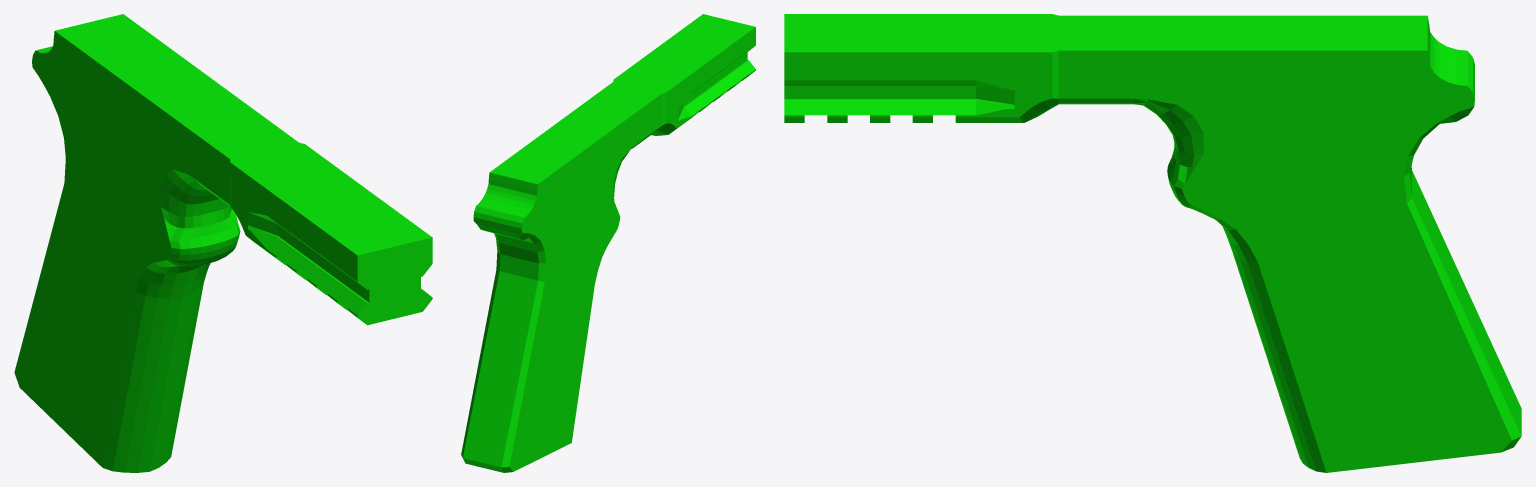
3 views of the same model, side by side, from view 1: azimuth 30°, elevation 25°; view 2: azimuth 150°, elevation 25°; view 3: azimuth 270°, elevation 25° (orthographic). The views are drawn at different scales.
Visible parts, largest first — view 1: Rail1; view 2: Rail1; view 3: Rail1.
Part boxes in pixels (x1,y1,x2,y2): Rail1: (14,14,432,472); Rail1: (461,14,755,472); Rail1: (784,14,1521,472).
Bounding box in the file's own units: 2.12 × 10.96 × 17.22.
